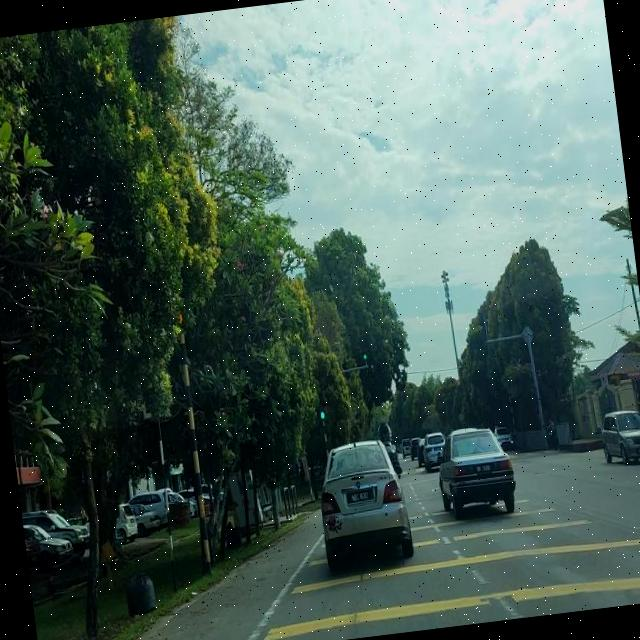green_light: (316, 391, 324, 419), (359, 336, 367, 359)
